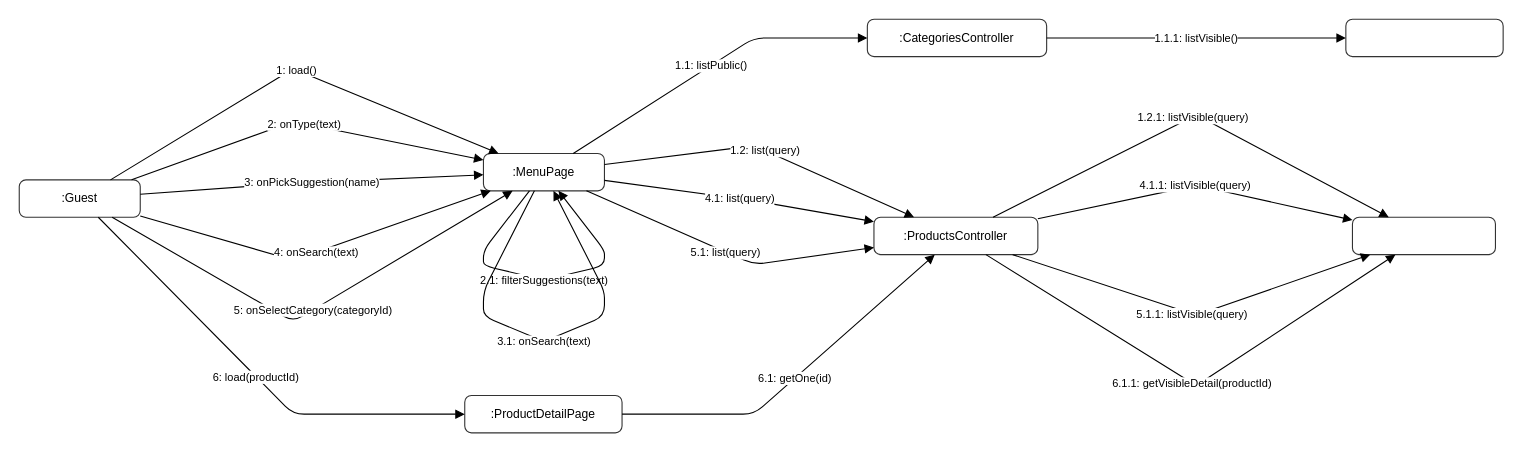
This 1522x452 diagram has some shape labels left out. The box of each missing label's shape, as (x1, y1, x2, y2) in pixels:
:CategoriesService: (1345, 18, 1503, 57)
:ProductsService: (1351, 216, 1495, 255)
